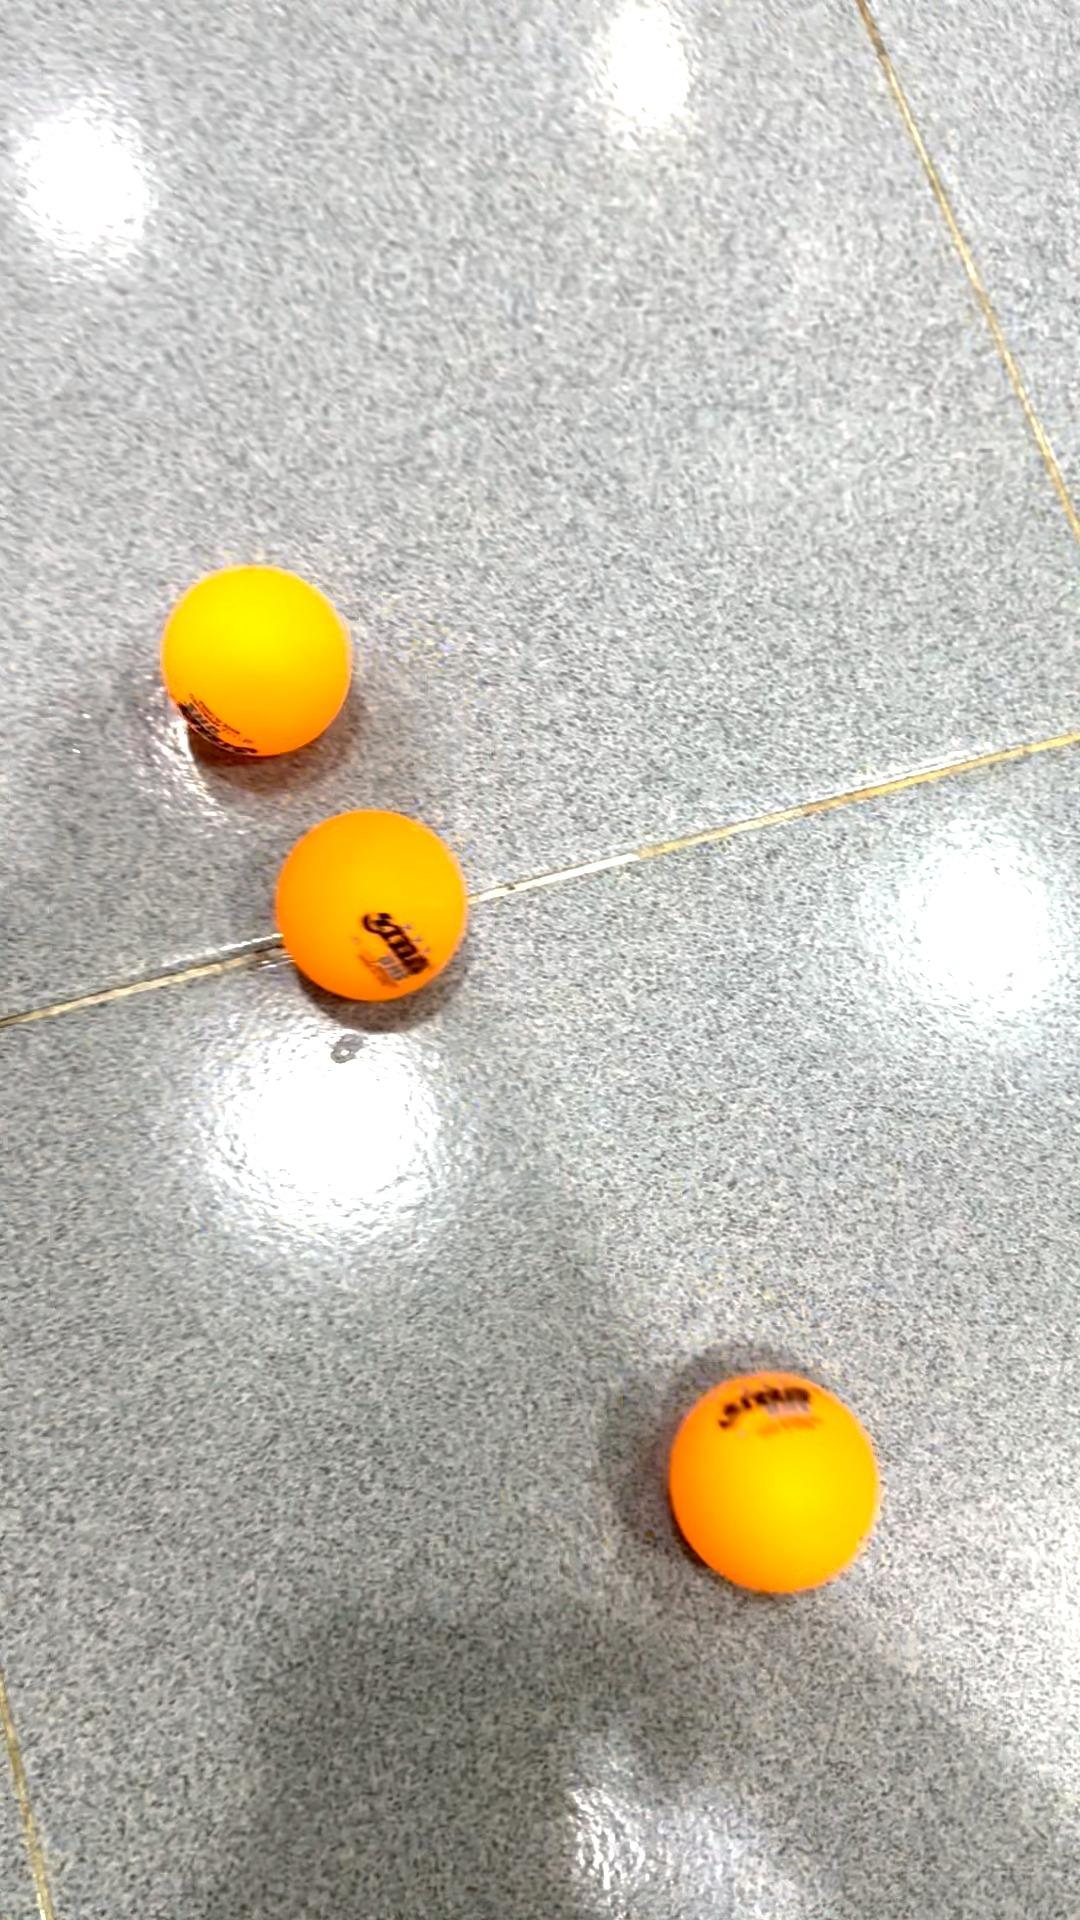oball: (661, 1365, 889, 1607), (158, 551, 364, 769), (268, 808, 471, 1023)
